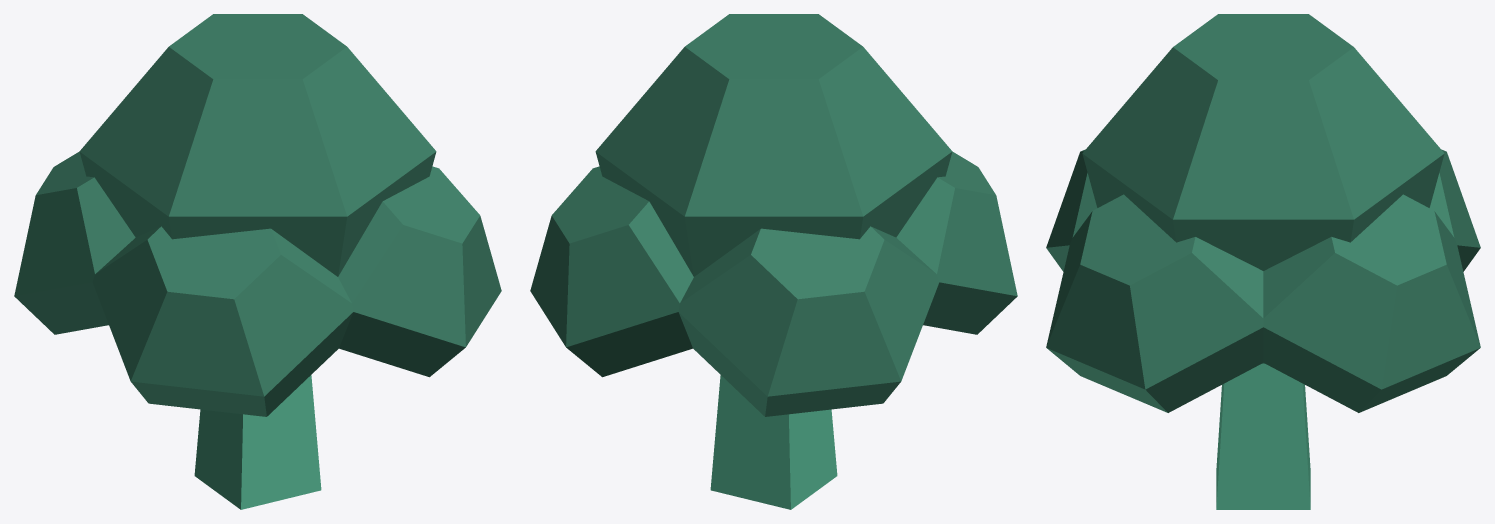
Rendered from broccoli.obj.
3 views of the same model, side by side, from view 1: azimuth 30°, elevation 25°; view 2: azimuth 150°, elevation 25°; view 3: azimuth 270°, elevation 25° (orthographic).
Parts seen in each view (by area): view 1: broccoli; view 2: broccoli; view 3: broccoli.
Boxes of the visible parts, x1,y1,x2,y2 form: broccoli: [14, 14, 501, 509]; broccoli: [530, 14, 1017, 509]; broccoli: [1046, 14, 1480, 509].
Bounding box in the file's own units: 0.3752 × 0.4217 × 0.3752.
